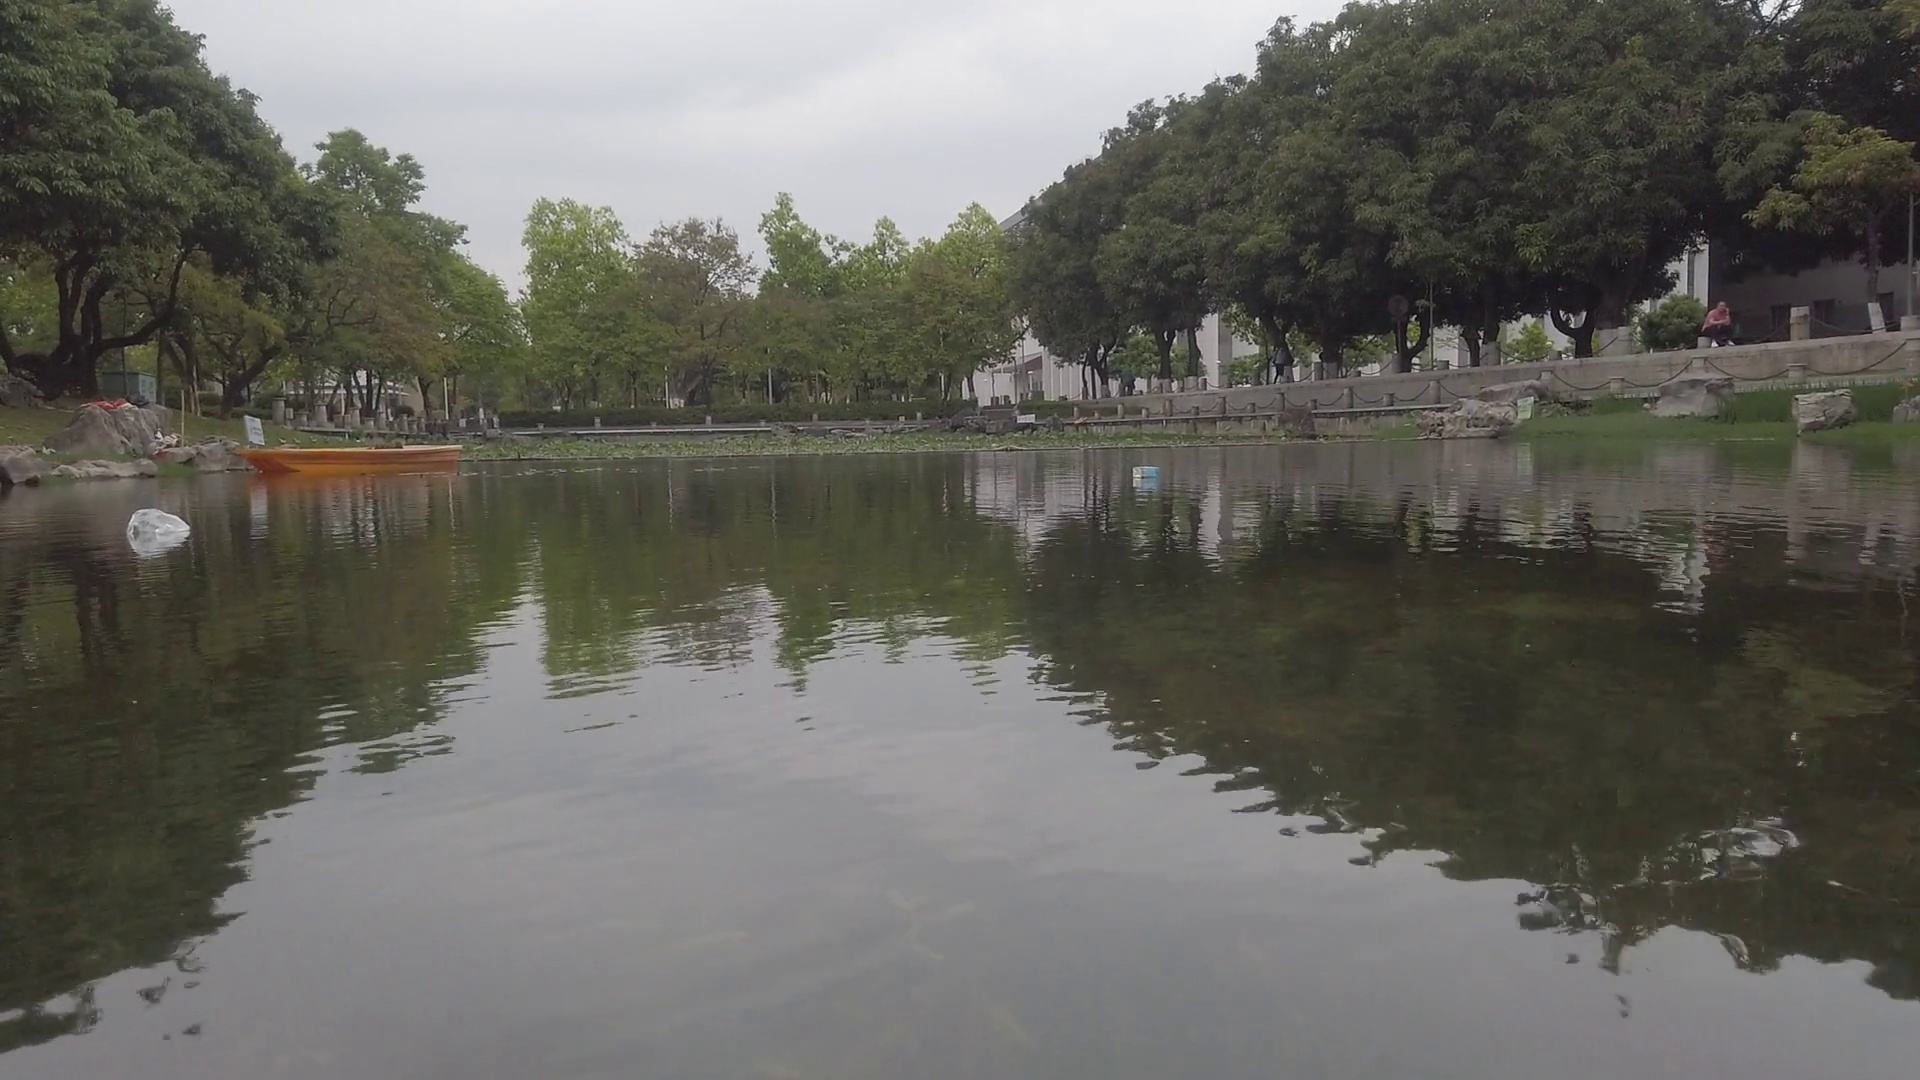carton: (1131, 465, 1163, 477)
plastic: (125, 512, 194, 549)
